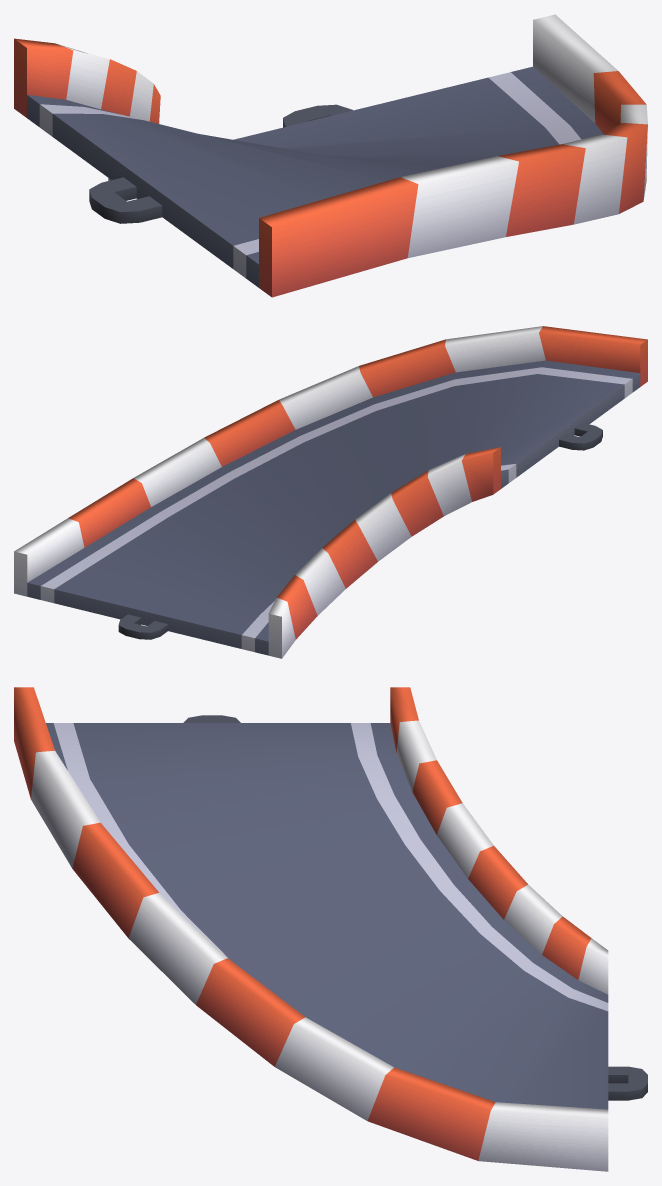
The model's file is track-road-wide-corner-small-ramp.glb.
The picture shows the model from 3 angles, top to bottom: view 1: azimuth 30°, elevation 25°; view 2: azimuth 150°, elevation 25°; view 3: azimuth 270°, elevation 25°; orthographic projection. The views are drawn at different scales.
Parts seen in each view (by area): view 1: track-road-wide-corner-small-ramp; view 2: track-road-wide-corner-small-ramp; view 3: track-road-wide-corner-small-ramp.
Boxes of the visible parts, <box> form: track-road-wide-corner-small-ramp: <box>14,14,647,297</box>; track-road-wide-corner-small-ramp: <box>14,326,647,658</box>; track-road-wide-corner-small-ramp: <box>14,687,647,1171</box>.
Size of the model in its own units: 9.6 by 3.9 by 9.6.
Materials: 1 (1 with a texture image).
